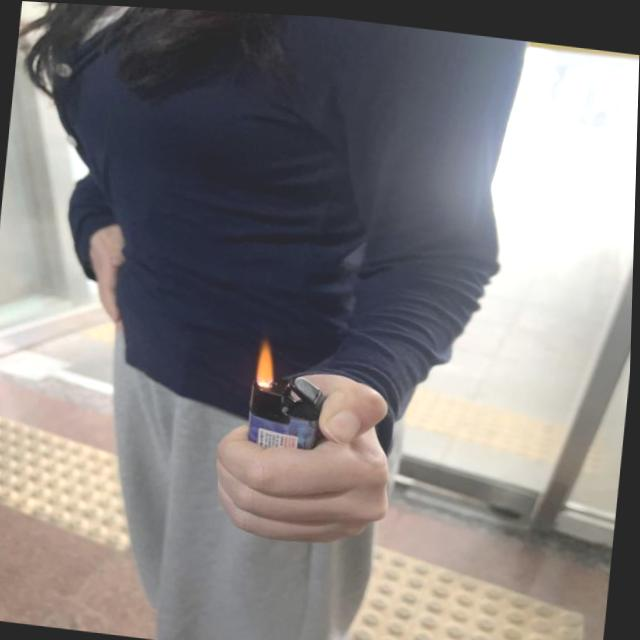Fire: (254, 338, 281, 381)
